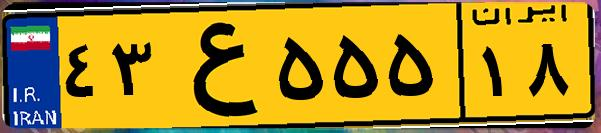1: (475, 38, 525, 113)
3: (110, 28, 158, 98)
4: (57, 26, 110, 100)
5: (270, 28, 330, 110), (385, 28, 445, 110), (330, 28, 385, 110)
8: (525, 38, 570, 115)
ع: (158, 12, 270, 120)
